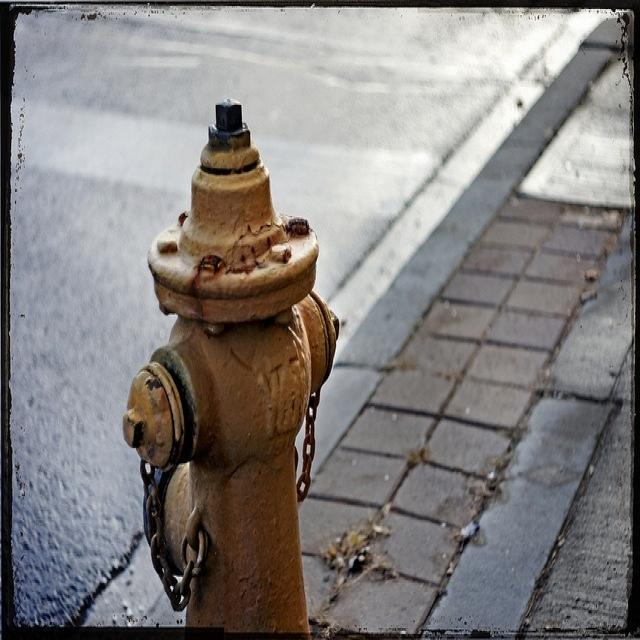fire_hydrant: (125, 126, 351, 610)
